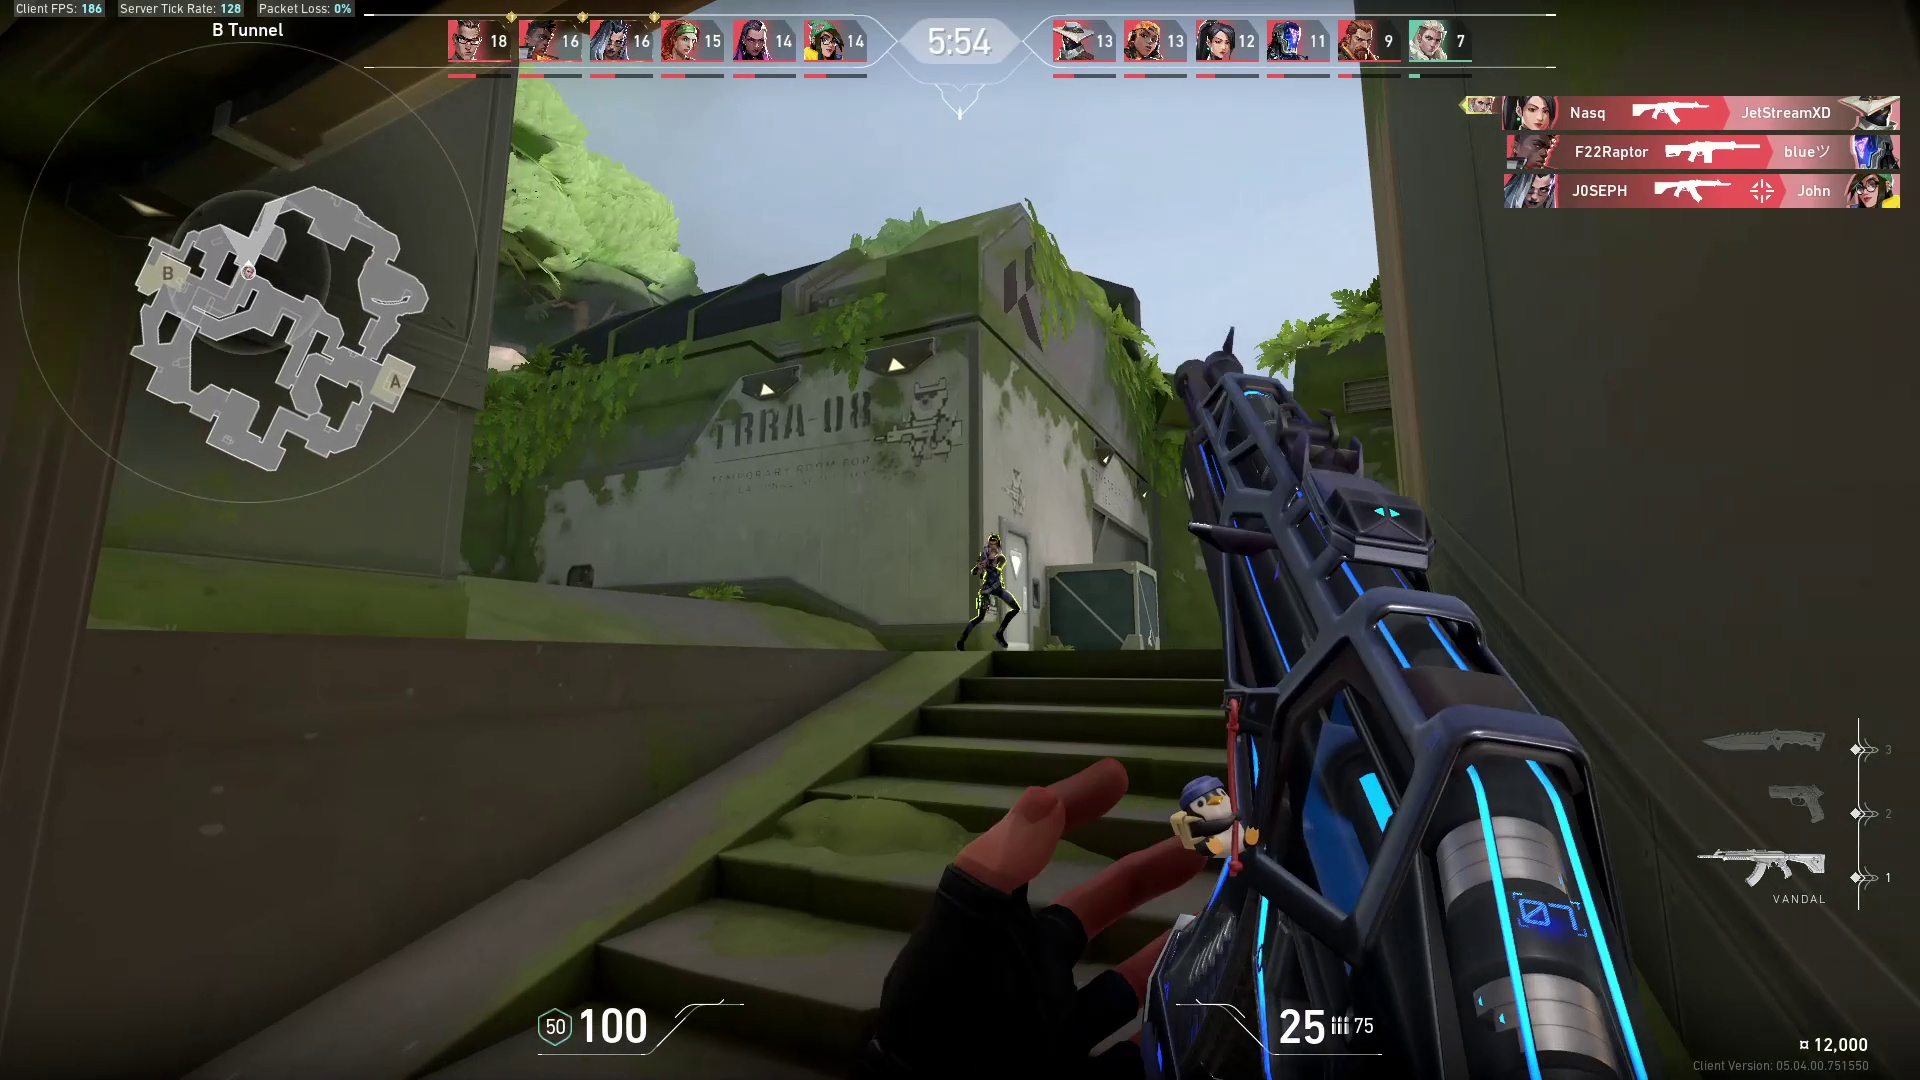enemy_body: (965, 557, 1029, 650)
enemy_head: (980, 529, 1007, 557)
